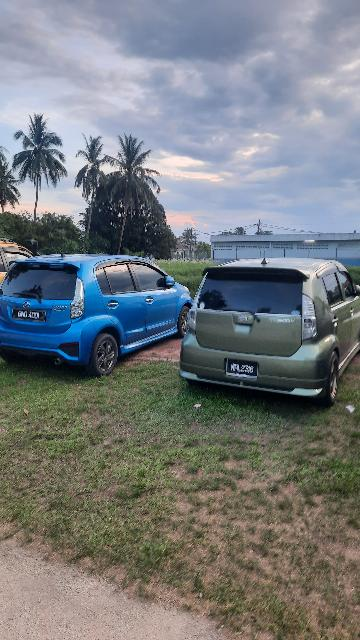License_Plate: (224, 355, 261, 382), (11, 307, 48, 325)
car: (179, 250, 360, 411), (1, 252, 195, 379)
